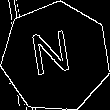N_S: (32, 29, 79, 85)
